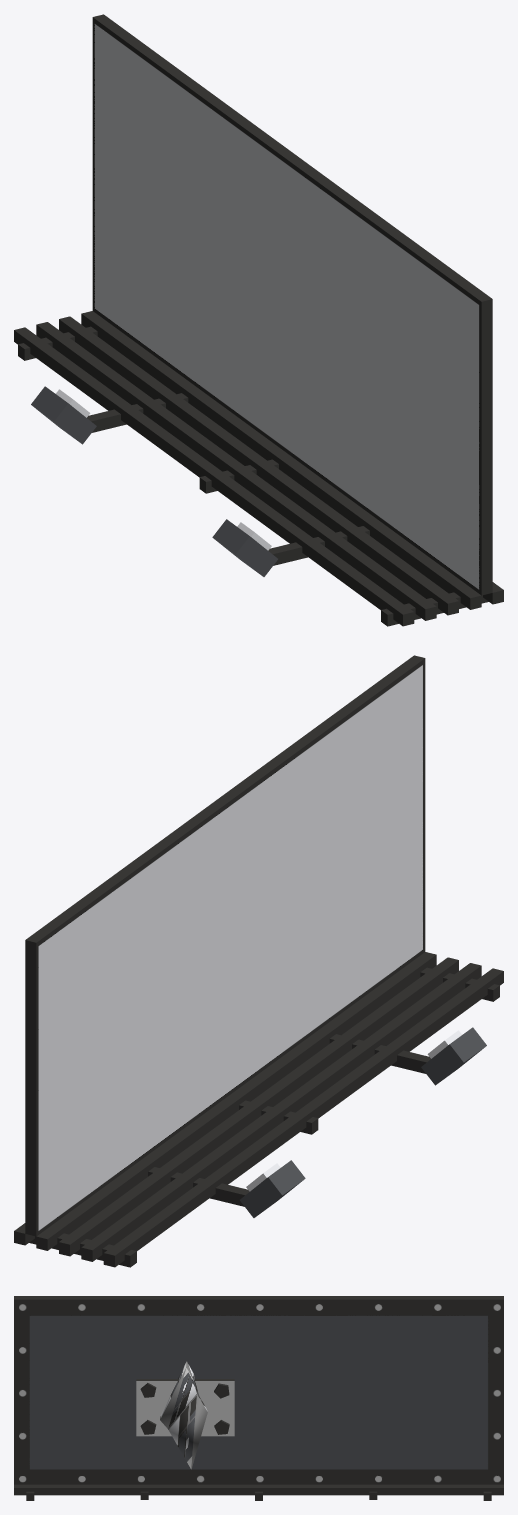
Rendered from b_chunks.glb.
The picture shows the model from 3 angles, top to bottom: view 1: azimuth 30°, elevation 25°; view 2: azimuth 150°, elevation 25°; view 3: azimuth 270°, elevation 25°; orthographic projection. The views are drawn at different scales.
Visible parts, largest first — view 1: b.024, b.001_cell.012, b.001_cell.032, b.001_cell.001, b.001_cell.028, b.001_cell.030, b.001_cell, b.087, b.145, b.153, b.001_cell.011, b.149 (+27 smaller); view 2: b.024, b.001_cell.012, b.001_cell.001, b.001_cell.032, b.001_cell.030, b.001_cell.028, b.001_cell, b.001_cell.019, b.087, b.145, b.149, b.098 (+27 smaller); view 3: b.034, b.001_cell.032, b.001_cell.001, b.001_cell.014, b.001_cell.030, b.001_cell.012, b.163, b.001_cell.019, b.001_cell.016, b.021, b.001_cell.027, b.001_cell.013 (+9 smaller).
Boxes of the visible parts, x1=… form: b.024: x1=92, y1=17, x2=481, y2=595; b.001_cell.012: x1=159, y1=63, x2=354, y2=328; b.001_cell.032: x1=343, y1=201, x2=492, y2=459; b.001_cell.001: x1=146, y1=53, x2=234, y2=395; b.001_cell.028: x1=219, y1=331, x2=332, y2=510; b.001_cell.030: x1=36, y1=15, x2=155, y2=343; b.001_cell: x1=239, y1=310, x2=340, y2=460; b.087: x1=42, y1=322, x2=436, y2=609; b.145: x1=14, y1=330, x2=402, y2=626; b.153: x1=59, y1=320, x2=447, y2=615; b.001_cell.011: x1=390, y1=459, x2=494, y2=608; b.149: x1=36, y1=325, x2=425, y2=620; b.024: x1=36, y1=659, x2=425, y2=1235; b.001_cell.012: x1=93, y1=756, x2=289, y2=1020; b.001_cell.001: x1=78, y1=891, x2=178, y2=1195; b.001_cell.032: x1=287, y1=658, x2=425, y2=892; b.001_cell.030: x1=25, y1=901, x2=97, y2=1261; b.001_cell.028: x1=187, y1=1034, x2=332, y2=1139; b.001_cell: x1=183, y1=941, x2=284, y2=1035; b.001_cell.019: x1=287, y1=870, x2=388, y2=1013; b.087: x1=82, y1=963, x2=481, y2=1250; b.145: x1=115, y1=971, x2=503, y2=1267; b.149: x1=92, y1=966, x2=481, y2=1261; b.098: x1=61, y1=958, x2=458, y2=1244; b.034: x1=14, y1=1299, x2=503, y2=1484; b.001_cell.032: x1=14, y1=1299, x2=187, y2=1415; b.001_cell.001: x1=313, y1=1296, x2=437, y2=1499; b.001_cell.014: x1=430, y1=1310, x2=503, y2=1500; b.001_cell.030: x1=436, y1=1296, x2=503, y2=1455; b.001_cell.012: x1=185, y1=1296, x2=419, y2=1412; b.163: x1=14, y1=1488, x2=503, y2=1495; b.001_cell.019: x1=58, y1=1408, x2=187, y2=1463; b.001_cell.016: x1=14, y1=1375, x2=55, y2=1492; b.021: x1=136, y1=1381, x2=234, y2=1436; b.001_cell.027: x1=168, y1=1394, x2=207, y2=1469; b.001_cell.013: x1=307, y1=1452, x2=376, y2=1499.
Bounding box in the file's own units: 162 × 266 × 600.
Materials: 1 (1 with a texture image).
